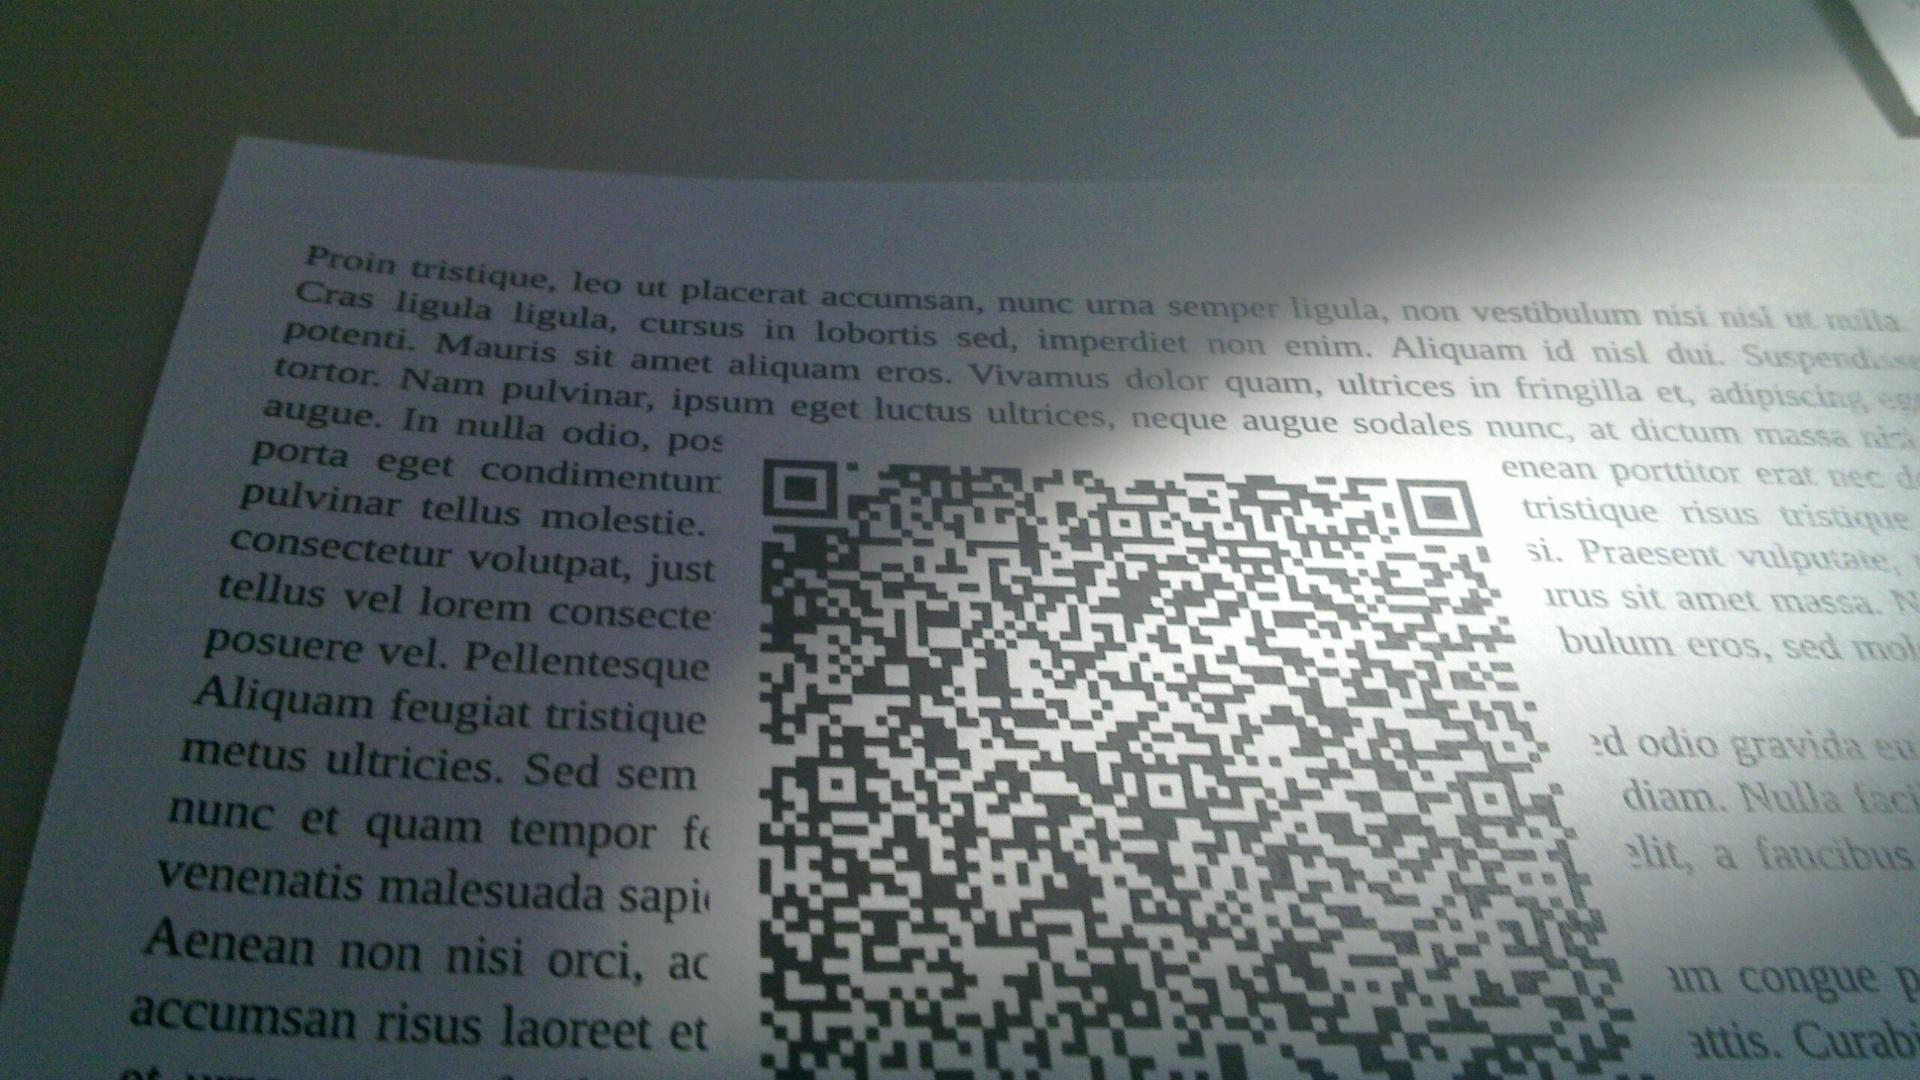Finder pattern: (754, 450, 847, 524), (1393, 469, 1486, 541)
